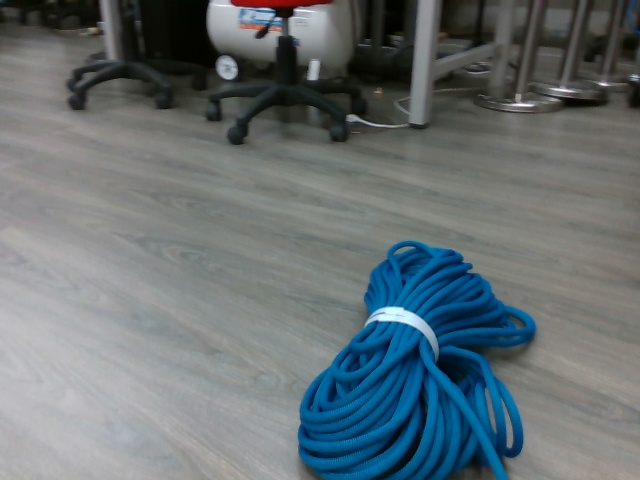rope: (296, 236, 541, 480)
